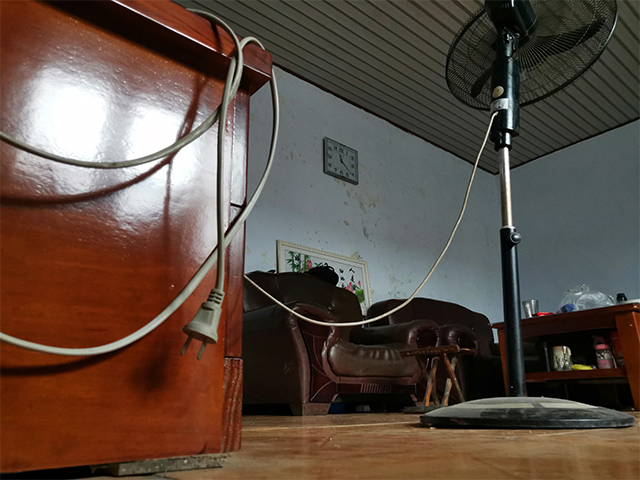cabinet: (1, 1, 275, 479)
stool: (239, 268, 507, 418), (399, 343, 472, 414)
table: (486, 301, 640, 414)
wire: (189, 8, 284, 362)
